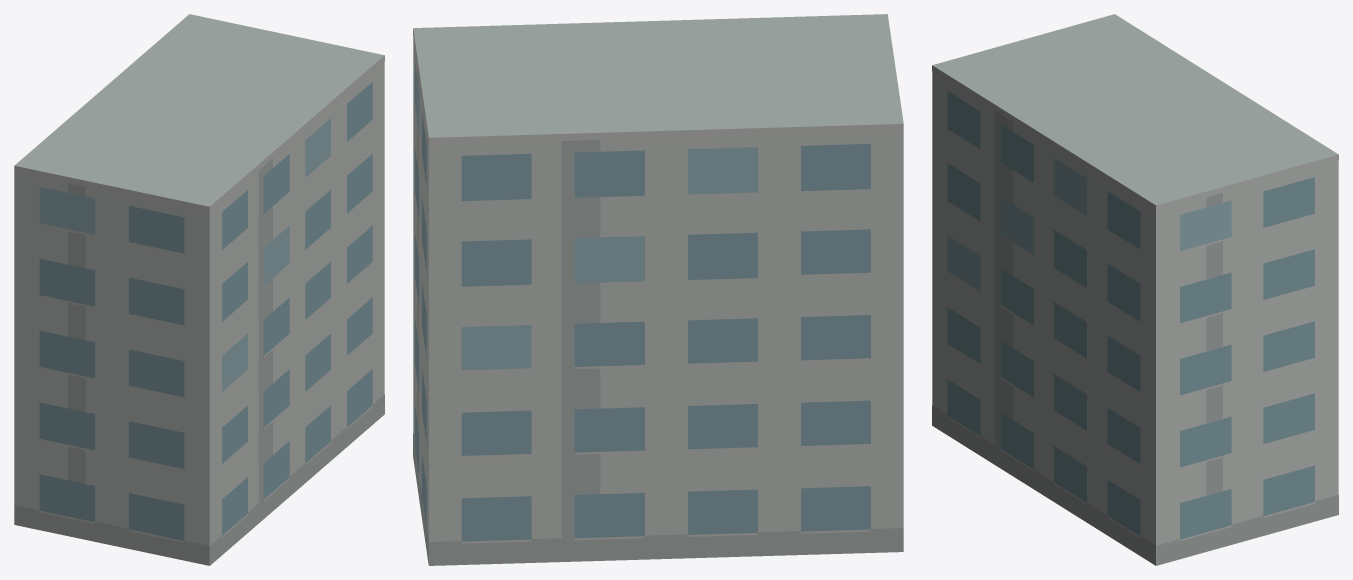
The model's file is survey-upis-33033391.glb.
The picture shows the model from 3 angles, left to right: view 1: azimuth 30°, elevation 25°; view 2: azimuth 150°, elevation 25°; view 3: azimuth 270°, elevation 25°; orthographic projection. The views are drawn at different scales.
Visible parts, largest first — view 1: survey-upis-33033391.tmp; view 2: survey-upis-33033391.tmp; view 3: survey-upis-33033391.tmp.
Part boxes in pixels (x1,y1,x2,y2): survey-upis-33033391.tmp: [14, 14, 384, 565]; survey-upis-33033391.tmp: [413, 14, 903, 565]; survey-upis-33033391.tmp: [932, 14, 1338, 565].
Bounding box in the file's own units: 16.64 × 14.6 × 14.94.
